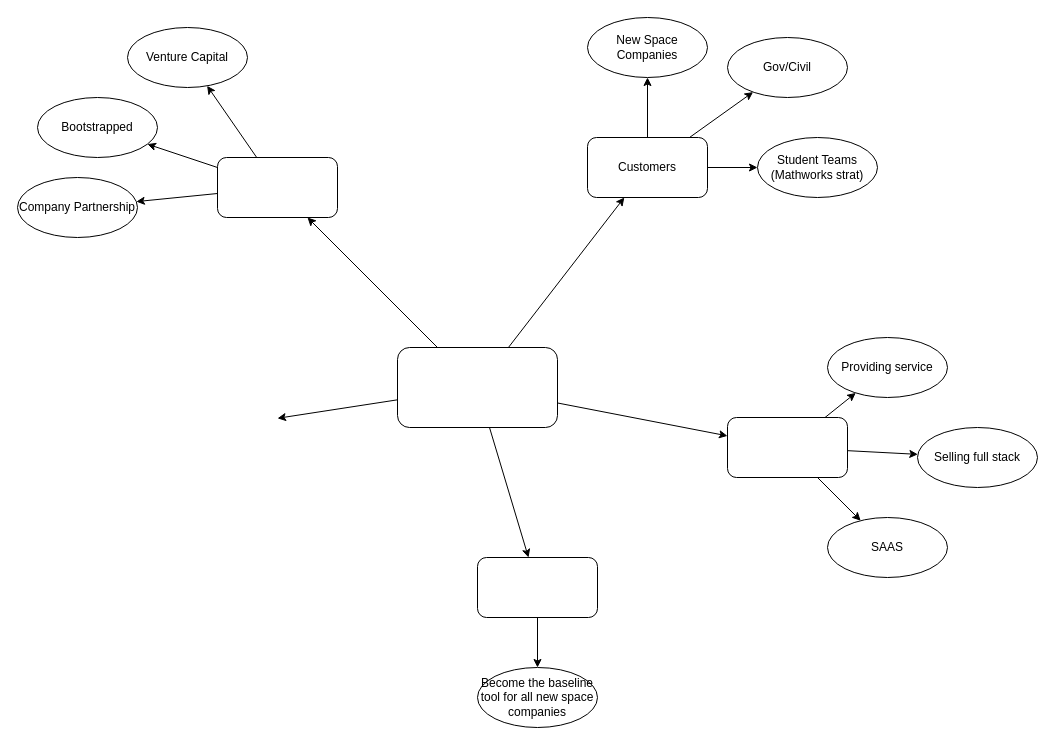
Image size: 1055x745. Some labels were removed from this diagram. The shapes that lost their labels are listed below. From the top down, each one's box as (x1, y1, x2, y2) in pixels, then its label:
(216, 156, 338, 218): Funding Sorces
(396, 346, 558, 428): Modern Space Software
(726, 416, 848, 478): Business Type
(476, 556, 598, 618): Goals
